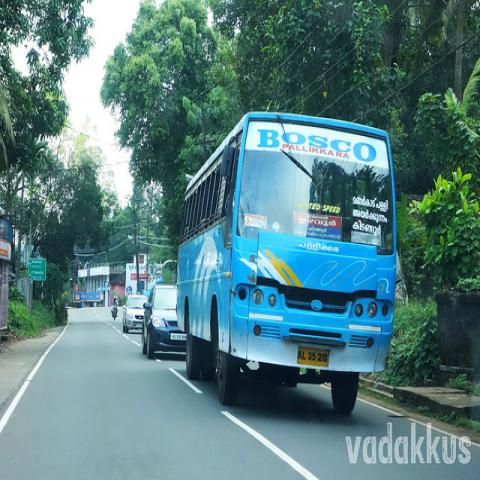bus: (174, 112, 395, 415)
car: (141, 282, 186, 360), (122, 294, 148, 333)
motorcycle: (110, 301, 114, 320), (114, 306, 118, 320)
